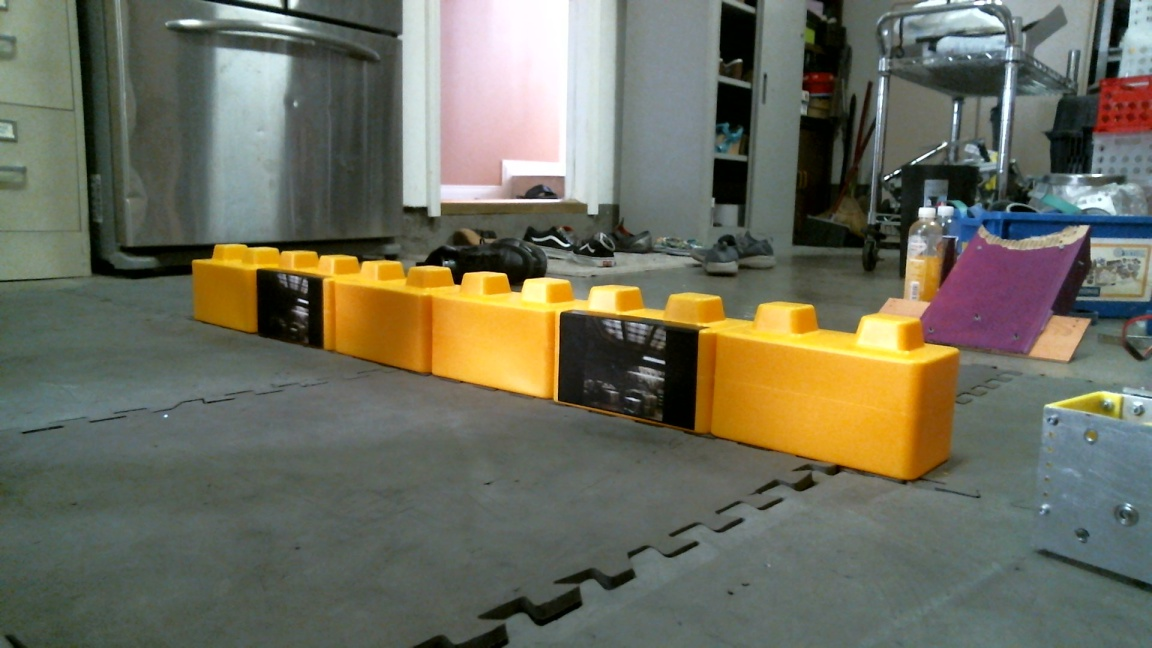center: (427, 276, 955, 480), (186, 232, 428, 368)
left: (254, 249, 566, 400)
right: (331, 259, 716, 435)
